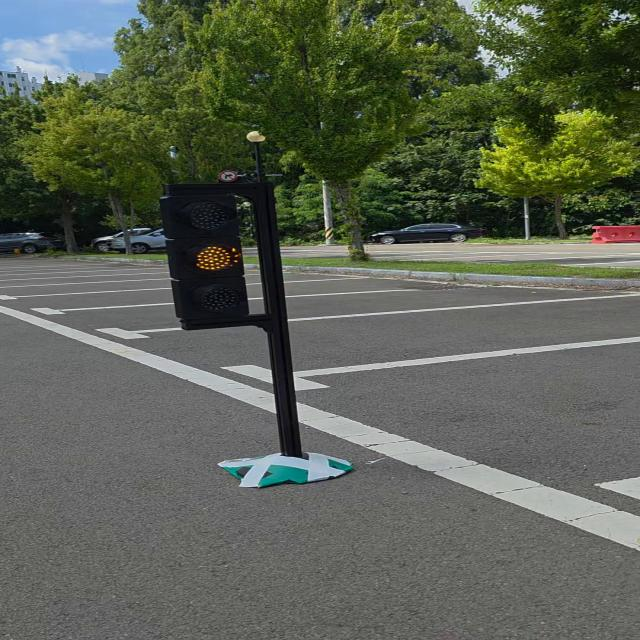yellow: (148, 180, 264, 333)
